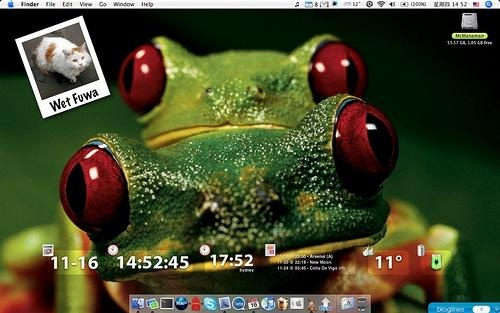cat: (34, 37, 91, 84)
